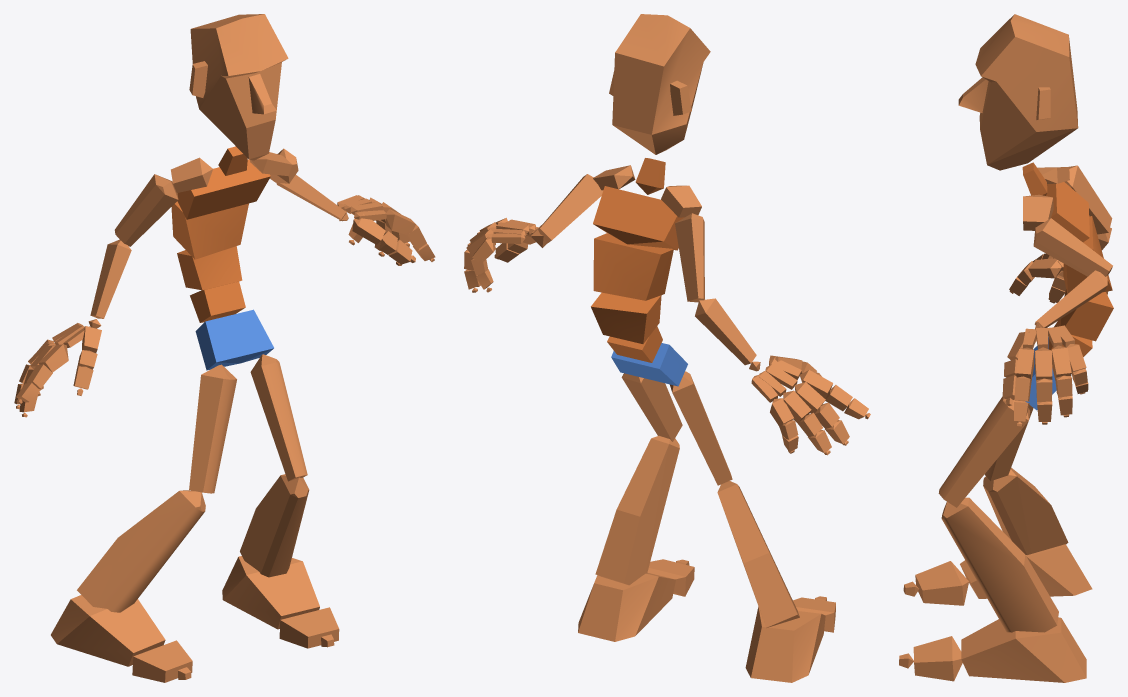
Rendered from prueba108.obj.
3 views of the same model, side by side, from view 1: azimuth 30°, elevation 25°; view 2: azimuth 150°, elevation 25°; view 3: azimuth 270°, elevation 25° (orthographic). The views are drawn at different scales.
Visible parts, largest first — view 1: BOPED_Head, BOPED_R_leg, BOPED_R_foot, BOPED_L_leg, BOPED_R_foot01, BOPED_R_legup, BOPED_L_legup, Bone01, Bone04, Bone05, BOPED_R_arm_upper, Bone03 (+7 smaller); view 2: BOPED_Head, BOPED_L_leg, BOPED_R_foot01, BOPED_R_leg, BOPED_R_foot, Bone04, Bone05, Bone03, BOPED_R_legup, BOPED_R_arm_upper, BOPED_L_legup, Bone01 (+8 smaller); view 3: BOPED_Head, BOPED_L_leg, BOPED_R_foot01, BOPED_R_leg, BOPED_L_legup, BOPED_R_foot, BOPED_L_arm_upper, BOPED_R_foot_toe01, BOPED_R_foot_toe04, Bone05, Bone03, BOPED_L_arm_fore (+16 smaller).
Boxes of the visible parts, bbox=[...] form: BOPED_Head: bbox=[189, 14, 288, 160]; BOPED_R_leg: bbox=[77, 490, 205, 612]; BOPED_R_foot: bbox=[51, 595, 165, 666]; BOPED_L_leg: bbox=[240, 474, 309, 577]; BOPED_R_foot01: bbox=[222, 556, 319, 629]; BOPED_R_legup: bbox=[189, 364, 236, 493]; BOPED_L_legup: bbox=[250, 354, 307, 481]; Bone01: bbox=[195, 309, 273, 370]; Bone04: bbox=[171, 201, 248, 259]; Bone05: bbox=[177, 159, 270, 219]; BOPED_R_arm_upper: bbox=[114, 174, 178, 246]; Bone03: bbox=[177, 246, 242, 290]; BOPED_Head: bbox=[609, 14, 710, 154]; BOPED_L_leg: bbox=[595, 436, 679, 585]; BOPED_R_foot01: bbox=[578, 572, 675, 641]; BOPED_R_leg: bbox=[717, 481, 799, 627]; BOPED_R_foot: bbox=[745, 606, 825, 682]; Bone04: bbox=[593, 233, 673, 300]; Bone05: bbox=[593, 186, 684, 250]; Bone03: bbox=[591, 292, 661, 343]; BOPED_R_legup: bbox=[669, 371, 732, 485]; BOPED_R_arm_upper: bbox=[675, 213, 704, 302]; BOPED_L_legup: bbox=[621, 373, 682, 441]; Bone01: bbox=[611, 343, 687, 386]; BOPED_Head: bbox=[958, 14, 1078, 170]; BOPED_L_leg: bbox=[941, 497, 1058, 632]; BOPED_R_foot01: bbox=[961, 617, 1086, 682]; BOPED_R_leg: bbox=[983, 467, 1068, 554]; BOPED_L_legup: bbox=[938, 396, 1030, 507]; BOPED_R_foot: bbox=[960, 544, 1092, 598]; BOPED_L_arm_upper: bbox=[1033, 218, 1112, 276]; BOPED_R_foot_toe01: bbox=[915, 561, 968, 605]; BOPED_R_foot_toe04: bbox=[913, 636, 962, 681]; Bone05: bbox=[1046, 182, 1089, 242]; Bone03: bbox=[1061, 289, 1113, 341]; BOPED_L_arm_fore: bbox=[1034, 270, 1107, 327].
Bounding box in the file's own units: 130 × 183 × 56.5.
